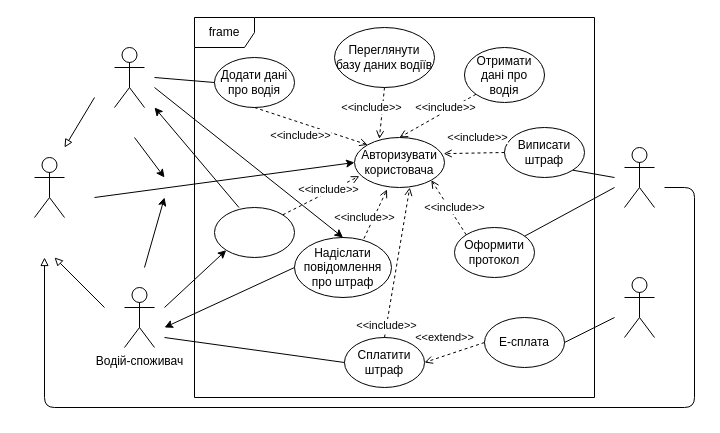
The diagram is 720 pixels wide and 433 high, and some of its shapes have lost their labels. Each missing label, with the centre of its shape:
Користувач: the point at 49,187
Повідомити про ДТП: the point at 254,232
Поліцейський: the point at 639,177
Сервіс E-pay: the point at 639,307
Співробітик: the point at 129,77
